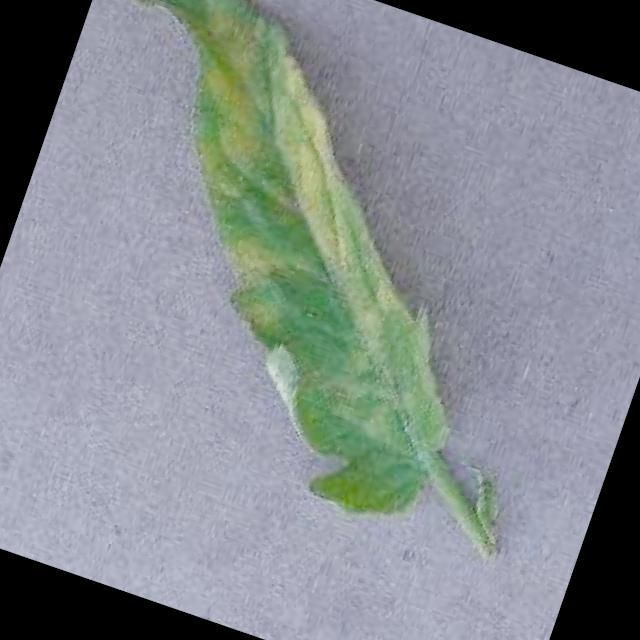Tomato mold leaf: (0, 0, 567, 539)
